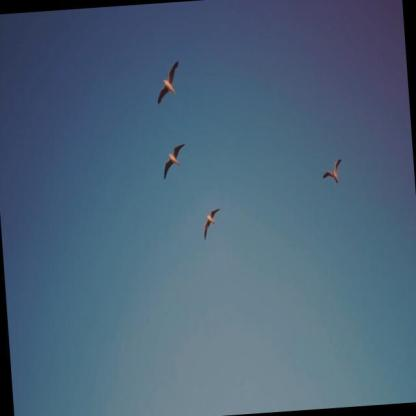bird: (152, 52, 183, 107), (160, 139, 188, 183), (319, 152, 344, 189), (200, 205, 224, 242)
